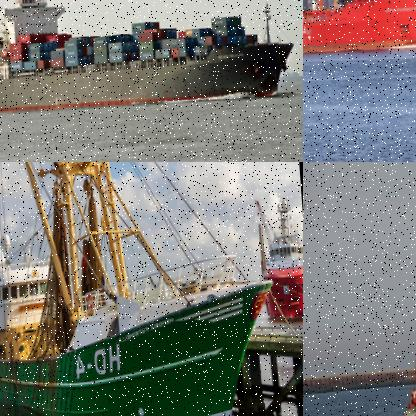Fishing Boat: (0, 162, 286, 415), (383, 162, 415, 415), (254, 193, 302, 326)
Merchant Ship: (0, 0, 298, 121), (303, 0, 415, 73)
